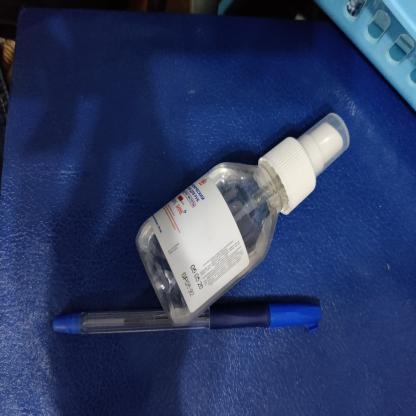Pen: (35, 280, 332, 374)
